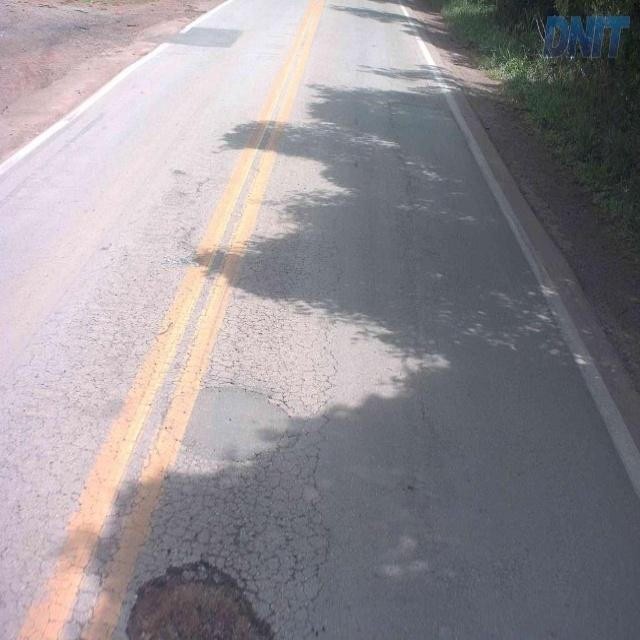pothole: (122, 550, 286, 639)
